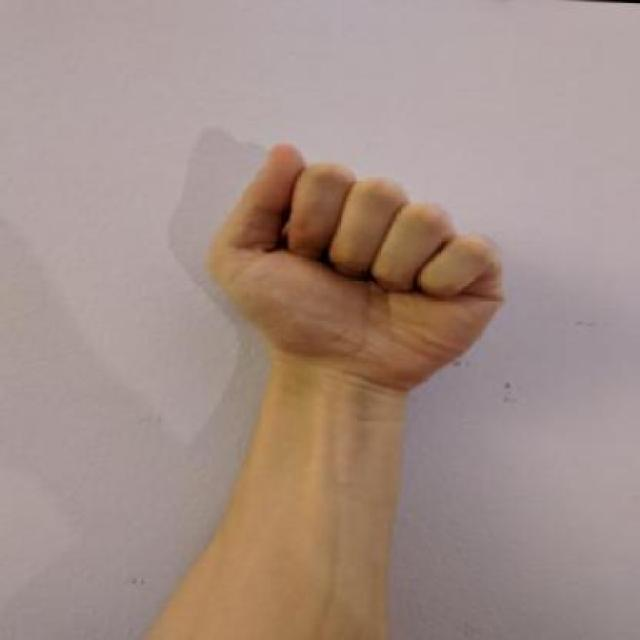A: (192, 129, 520, 402)
